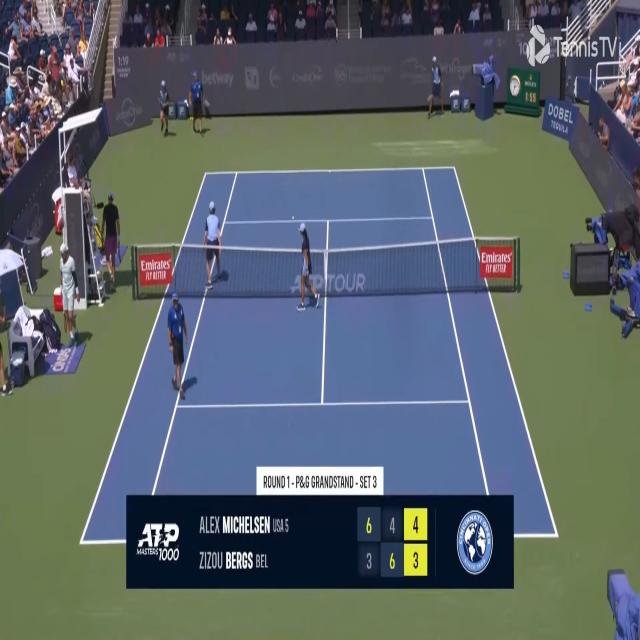tennis-player: (57, 240, 80, 344), (102, 190, 122, 294)
